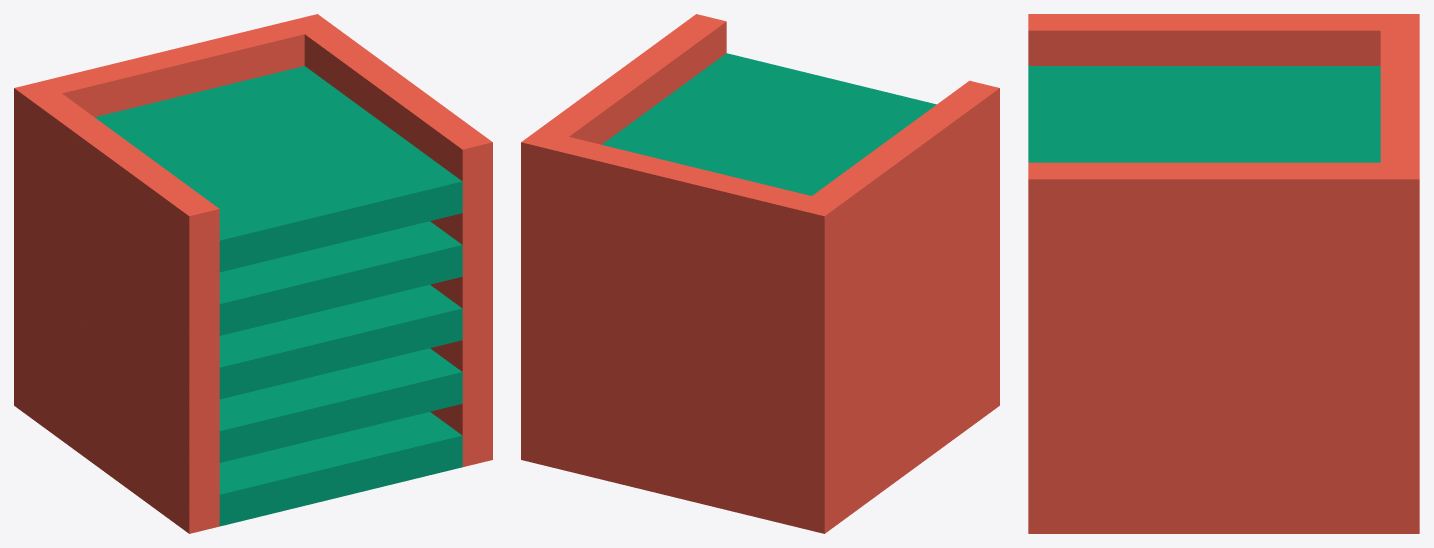
Rendered from end.glb.
3 renders of one model, left to right at view 1: azimuth 30°, elevation 25°; view 2: azimuth 150°, elevation 25°; view 3: azimuth 270°, elevation 25°, orthographic. The views are drawn at different scales.
Parts seen in each view (by area): view 1: mergedBlocks(Clone); view 2: mergedBlocks(Clone); view 3: mergedBlocks(Clone).
Boxes of the visible parts, <box> form: mergedBlocks(Clone): <box>14,14,492,533</box>; mergedBlocks(Clone): <box>521,14,999,533</box>; mergedBlocks(Clone): <box>1028,14,1419,533</box>.
Size of the model in its own units: 1 by 1 by 1.
